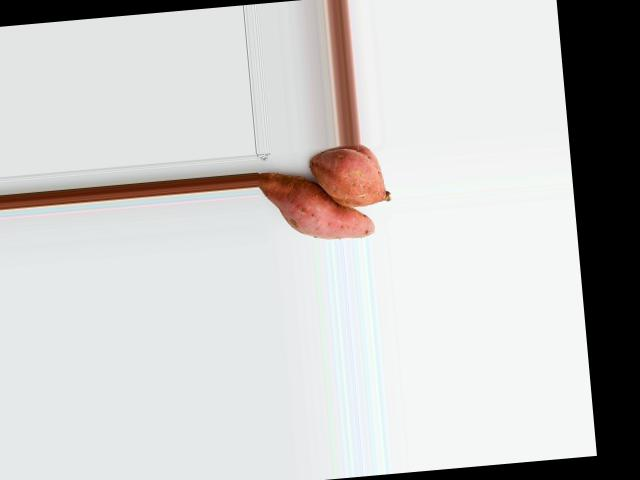sweet_potato: (313, 149, 391, 204)
